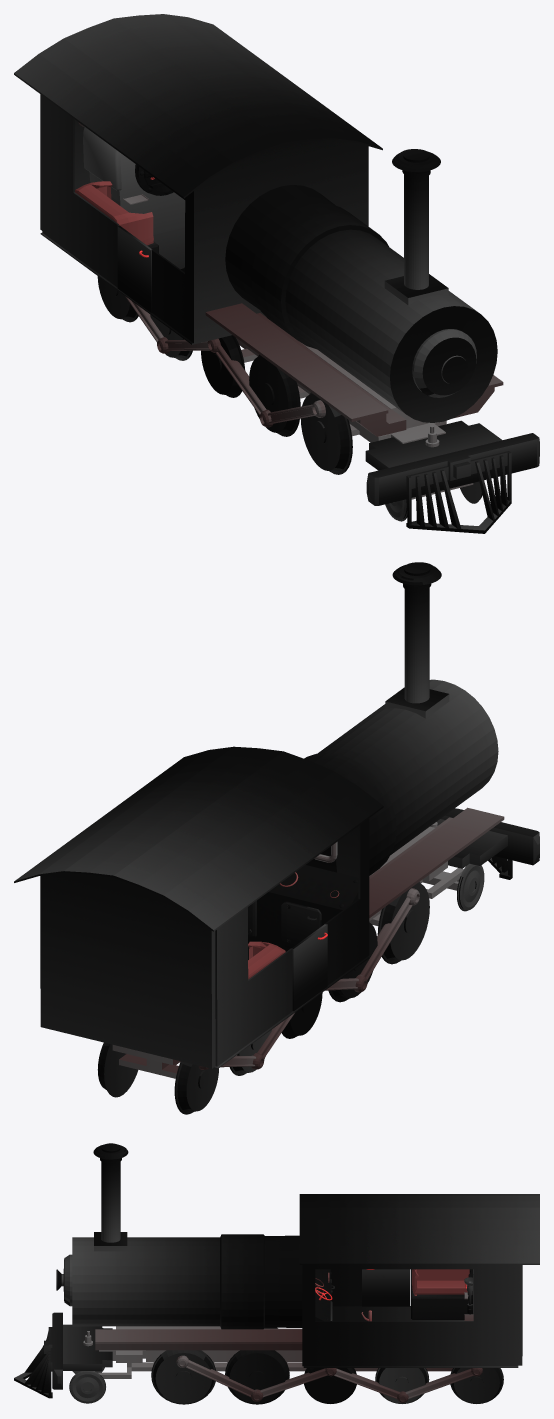
Rendered from Tren.fbx.
3 views of the same model, one above another, from view 1: azimuth 30°, elevation 25°; view 2: azimuth 150°, elevation 25°; view 3: azimuth 270°, elevation 25° (orthographic). The views are drawn at different scales.
Parts seen in each view (by area): view 1: Carbon Kg.001, Door.001; view 2: Carbon Kg.001, Door.001; view 3: Carbon Kg.001, Door.001.
Part boxes in pixels (box(x1,y1,x2,y2)): Carbon Kg.001: box(14, 14, 539, 533); Door.001: box(117, 225, 151, 312); Carbon Kg.001: box(14, 562, 539, 1114); Door.001: box(292, 924, 327, 1011); Carbon Kg.001: box(14, 1143, 539, 1404); Door.001: box(362, 1269, 409, 1306).
Bounding box in the file's own units: 2117 × 3512 × 6829.
Materials: 2 (2 with a texture image).
